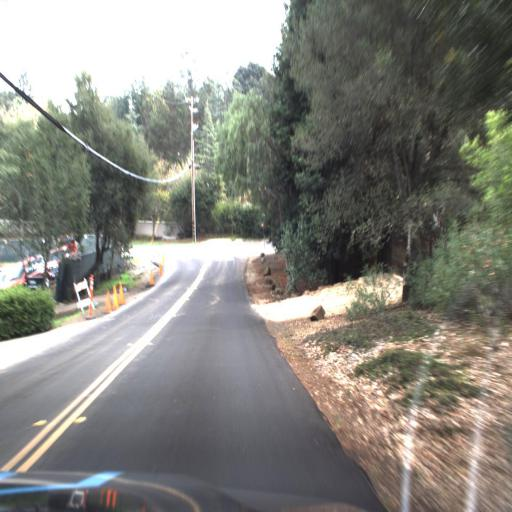car: (0, 254, 51, 293), (42, 235, 76, 278)
